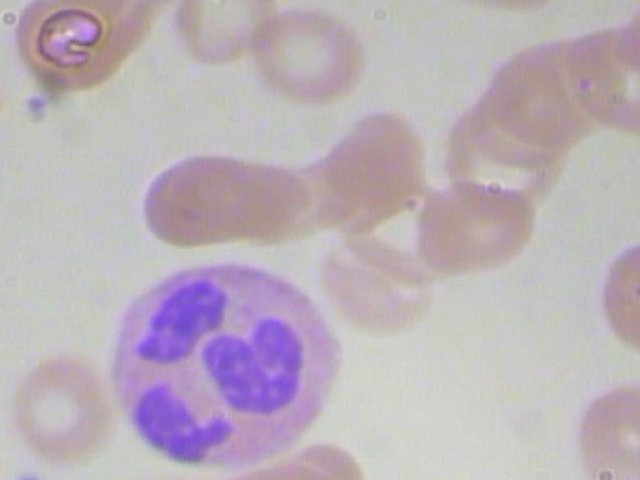Platelets: (6, 467, 51, 480)
RBC: (0, 348, 129, 466), (136, 147, 271, 257), (410, 172, 544, 282), (246, 5, 378, 110), (320, 225, 443, 333), (560, 23, 640, 141), (567, 376, 640, 480), (590, 235, 640, 377)
WBC: (100, 249, 351, 476)
